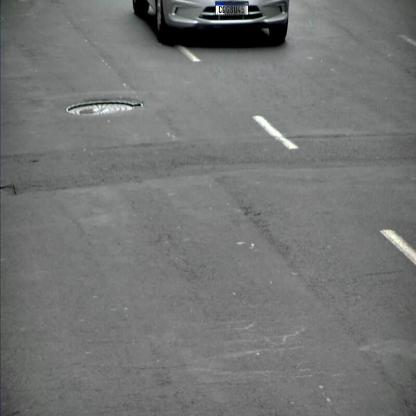PlacaM: (215, 2, 249, 16)
